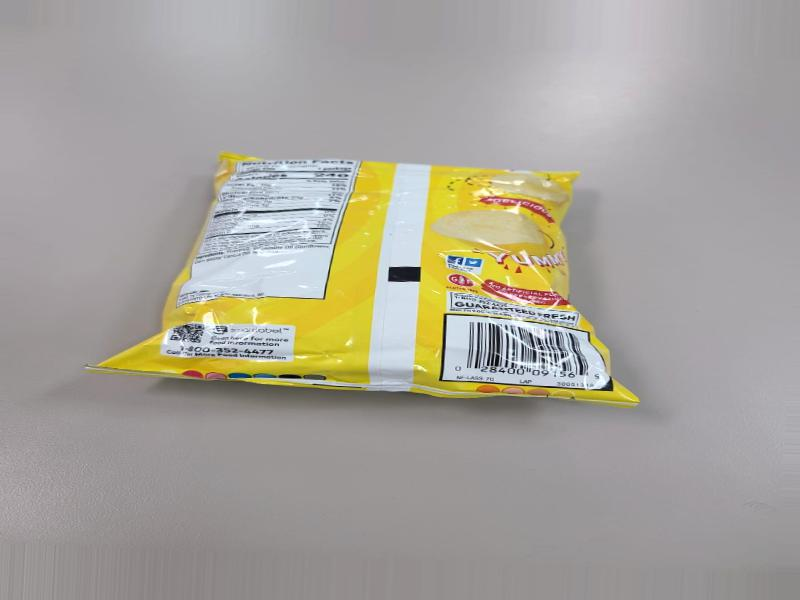lays: (87, 169, 625, 432)
